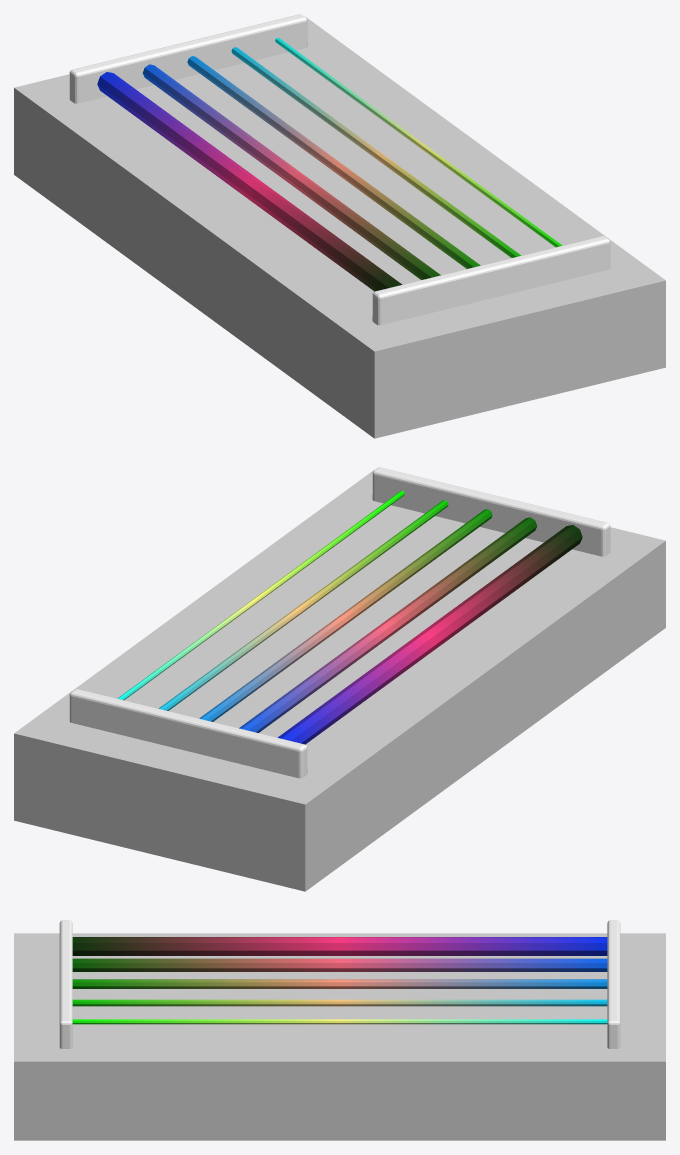
The model's file is SM_BassA.fbx.
3 renders of one model, top to bottom at view 1: azimuth 30°, elevation 25°; view 2: azimuth 150°, elevation 25°; view 3: azimuth 270°, elevation 25°, orthographic. The views are drawn at different scales.
Parts seen in each view (by area): view 1: transform2; view 2: transform2; view 3: transform2.
Boxes of the visible parts, x1,y1,x2,y2 form: transform2: (14, 14, 665, 438); transform2: (14, 467, 665, 891); transform2: (14, 920, 665, 1140).
Bounding box in the file's own units: 70 × 26.8 × 150.
